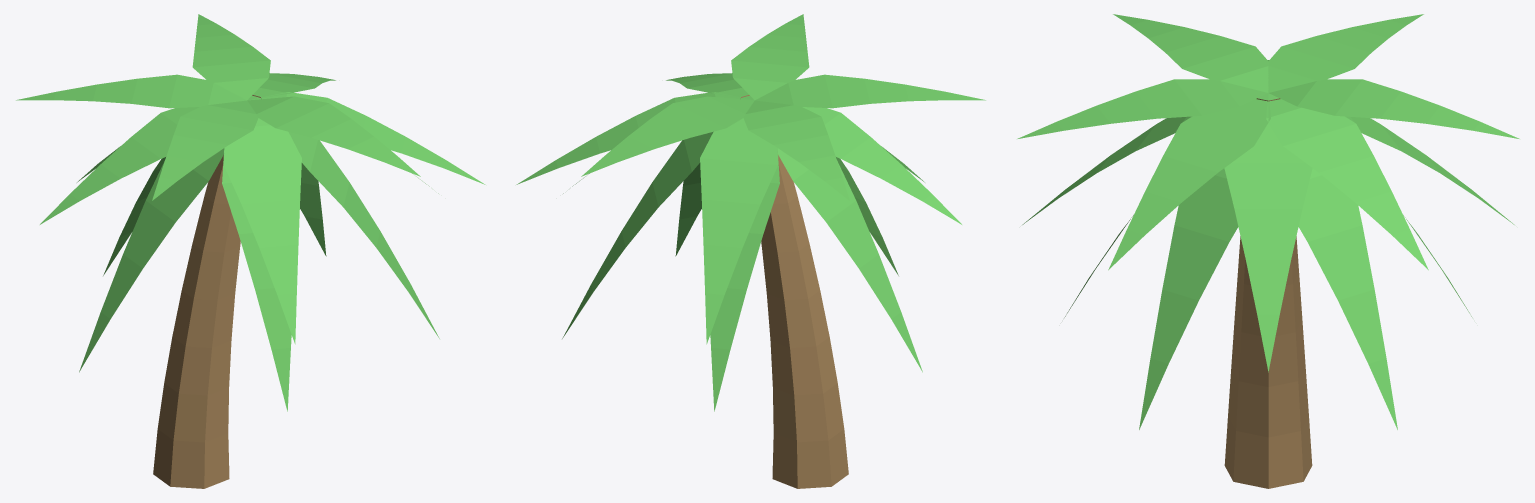
Rendered from PalmTree3.fbx.
3 views of the same model, side by side, from view 1: azimuth 30°, elevation 25°; view 2: azimuth 150°, elevation 25°; view 3: azimuth 270°, elevation 25° (orthographic). The views are drawn at different scales.
Visible parts, largest first — view 1: PalmTree3_LeafMat, PalmTree3_TrunkMat.004; view 2: PalmTree3_LeafMat, PalmTree3_TrunkMat.004; view 3: PalmTree3_LeafMat, PalmTree3_TrunkMat.004.
Boxes of the visible parts, x1,y1,x2,y2 form: PalmTree3_LeafMat: [16, 14, 485, 411]; PalmTree3_TrunkMat.004: [153, 95, 261, 488]; PalmTree3_LeafMat: [516, 14, 985, 411]; PalmTree3_TrunkMat.004: [740, 95, 848, 488]; PalmTree3_LeafMat: [1017, 14, 1519, 429]; PalmTree3_TrunkMat.004: [1224, 98, 1312, 488].
Size of the model in its own units: 1072 by 914 by 1012.
